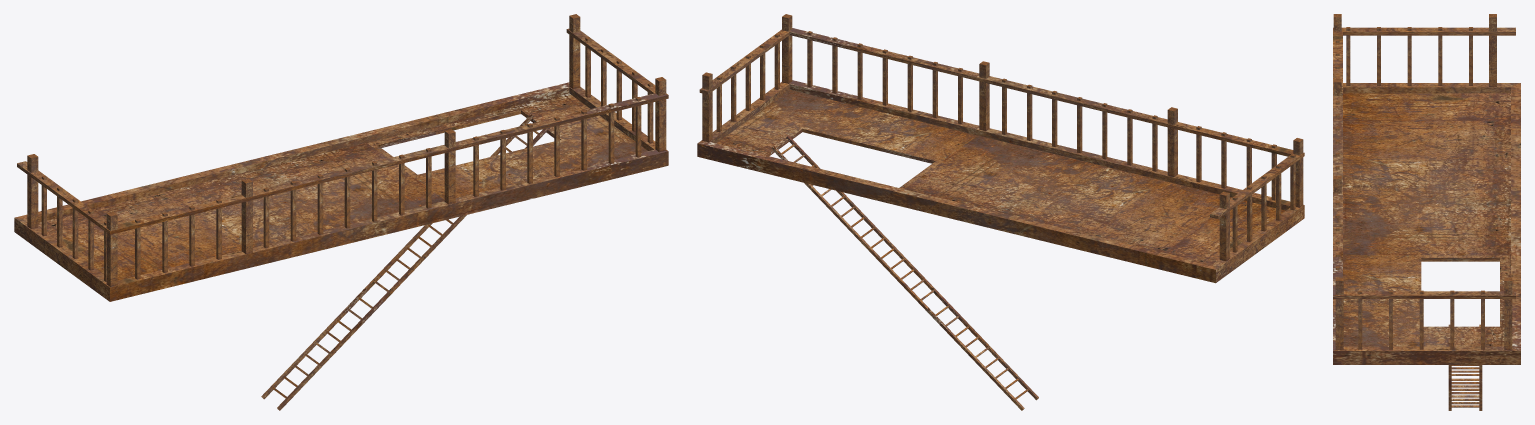
Rendered from fire_escape_03.fbx.
The picture shows the model from 3 angles, left to right: view 1: azimuth 30°, elevation 25°; view 2: azimuth 150°, elevation 25°; view 3: azimuth 270°, elevation 25°; orthographic projection. The views are drawn at different scales.
Visible parts, largest first — view 1: fire_escape_03; view 2: fire_escape_03; view 3: fire_escape_03.
Boxes of the visible parts, x1,y1,x2,y2 form: fire_escape_03: (14, 14, 668, 410); fire_escape_03: (697, 14, 1304, 410); fire_escape_03: (1333, 14, 1520, 410).
Size of the model in its own units: 8.26 by 4.14 by 2.45.
